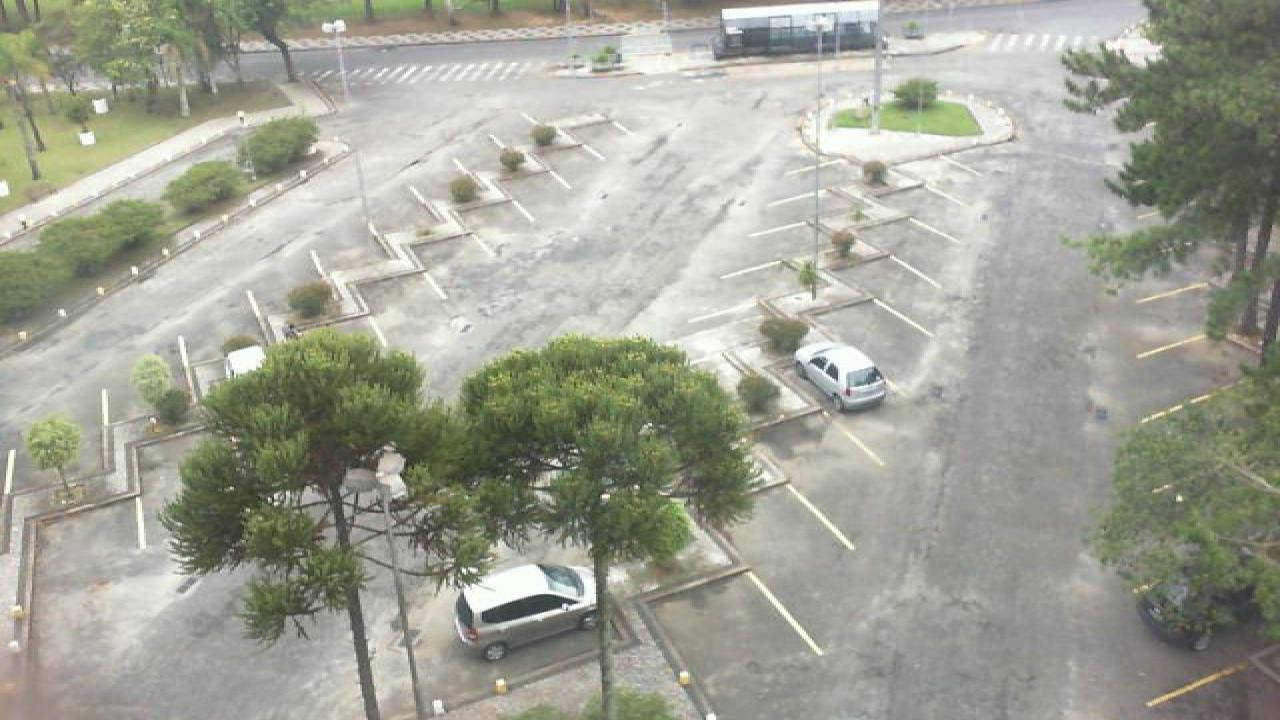Car: (450, 562, 604, 662), (794, 342, 890, 413), (1136, 585, 1220, 651), (222, 344, 270, 386)
